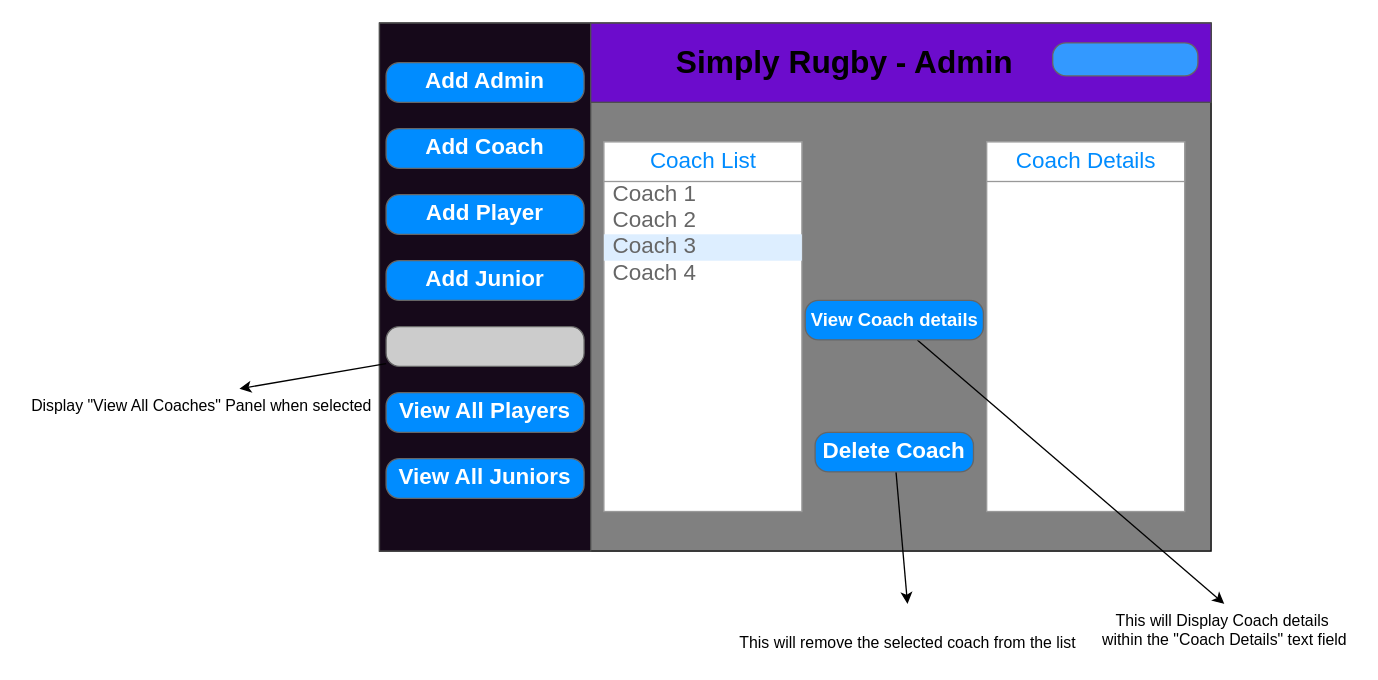
This 1378x680 diagram has some shape labels left out. The shapes that lost their labels are listed below. From the top down, each one's centre as x and y in pixels, then its label:
(x=1124, y=59): Logout
(x=484, y=345): View All Coaches
